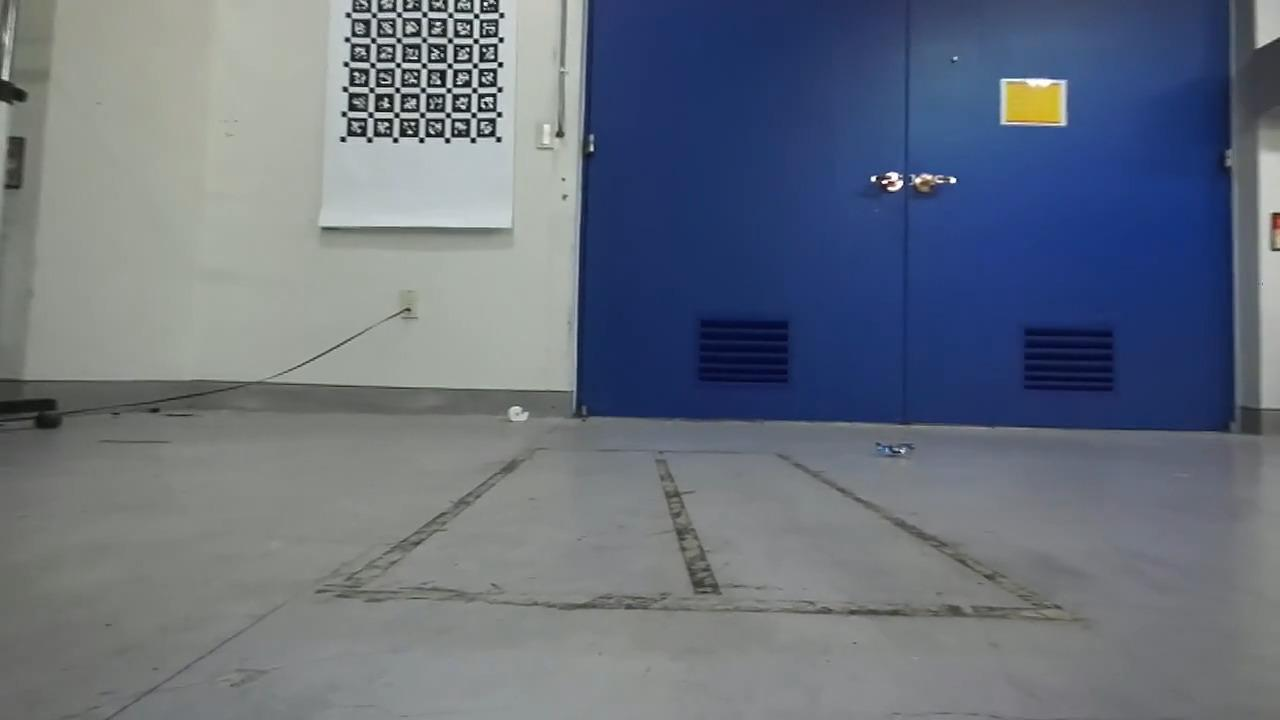crazyflie: (868, 435, 923, 464)
